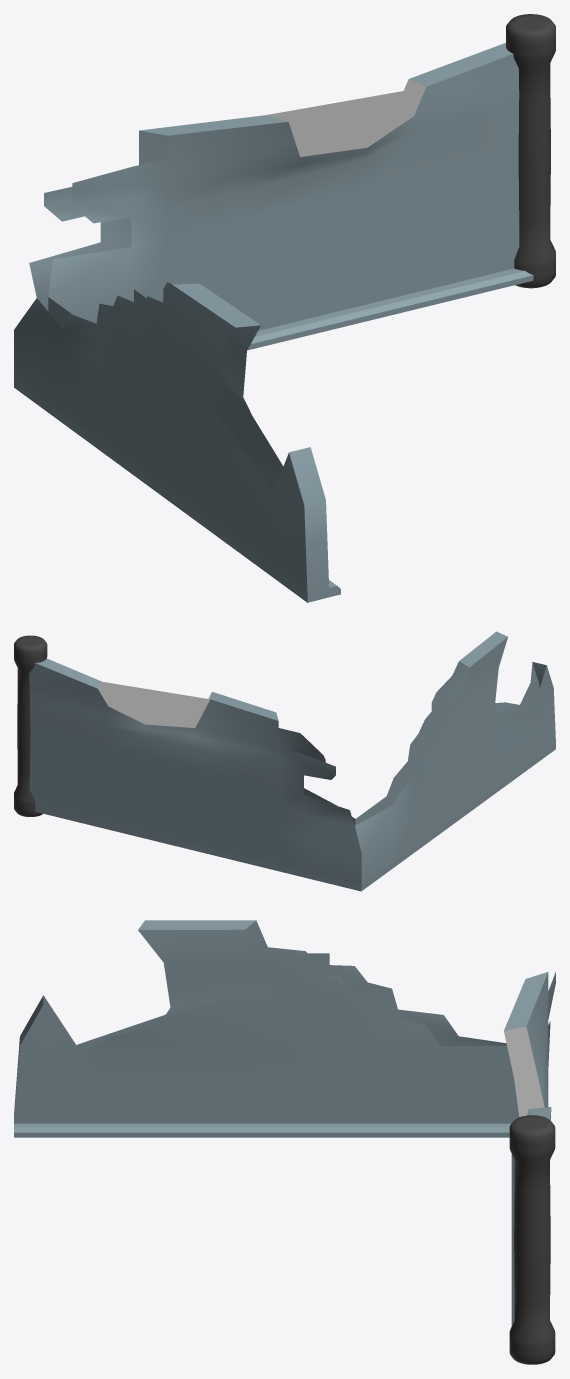
Rendered from crackedwall.fbx.
The picture shows the model from 3 angles, top to bottom: view 1: azimuth 30°, elevation 25°; view 2: azimuth 150°, elevation 25°; view 3: azimuth 270°, elevation 25°; orthographic projection. The views are drawn at different scales.
Parts seen in each view (by area): view 1: Corner_wall_big_1_pillar; view 2: Corner_wall_big_1_pillar; view 3: Corner_wall_big_1_pillar.
Boxes of the visible parts, x1,y1,x2,y2 form: Corner_wall_big_1_pillar: [14, 14, 555, 602]; Corner_wall_big_1_pillar: [14, 631, 555, 891]; Corner_wall_big_1_pillar: [14, 920, 555, 1364].
Bounding box in the file's own units: 1919 × 881 × 1858.
